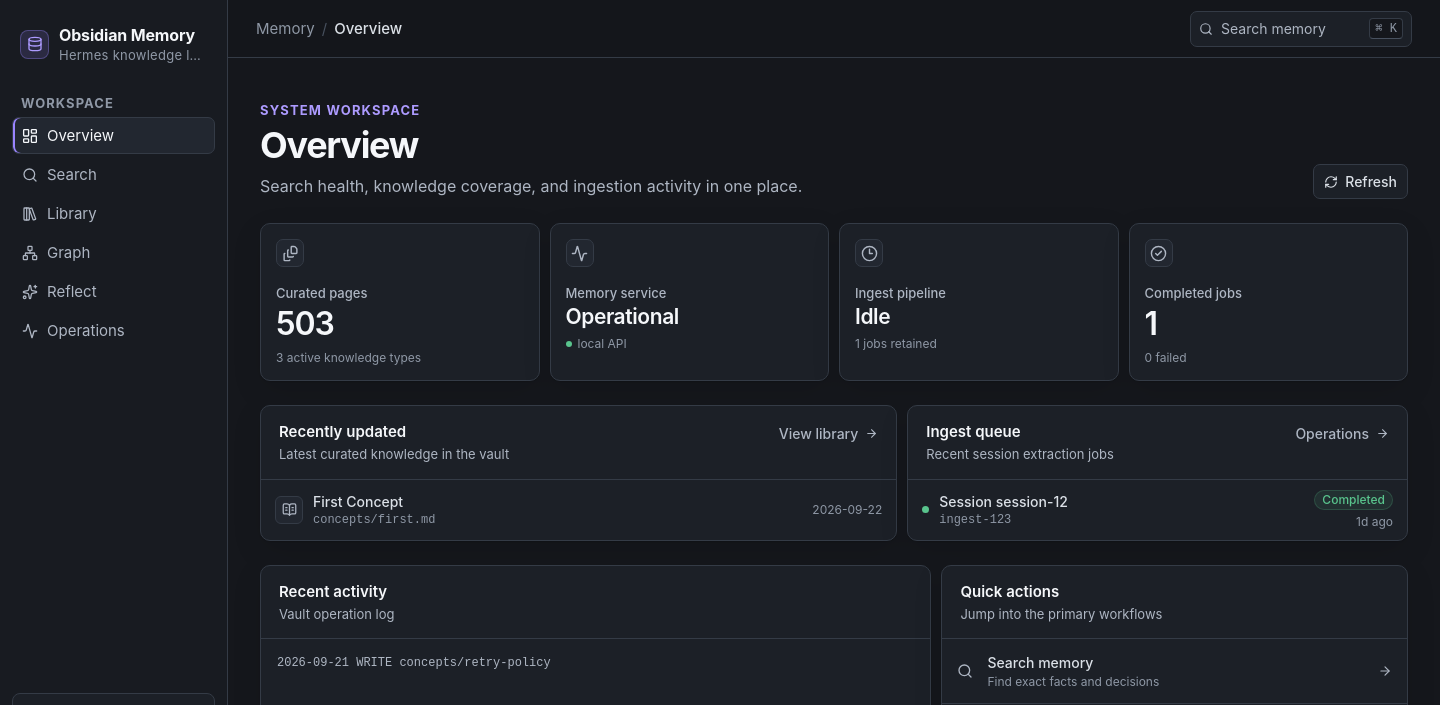
Test: Memory workspace shell › loads answer and preference filters from the server instead of the initial page slice
Click the button "Library" at coordinates (114, 214), box top-left (12, 195), bottom-right (215, 232)
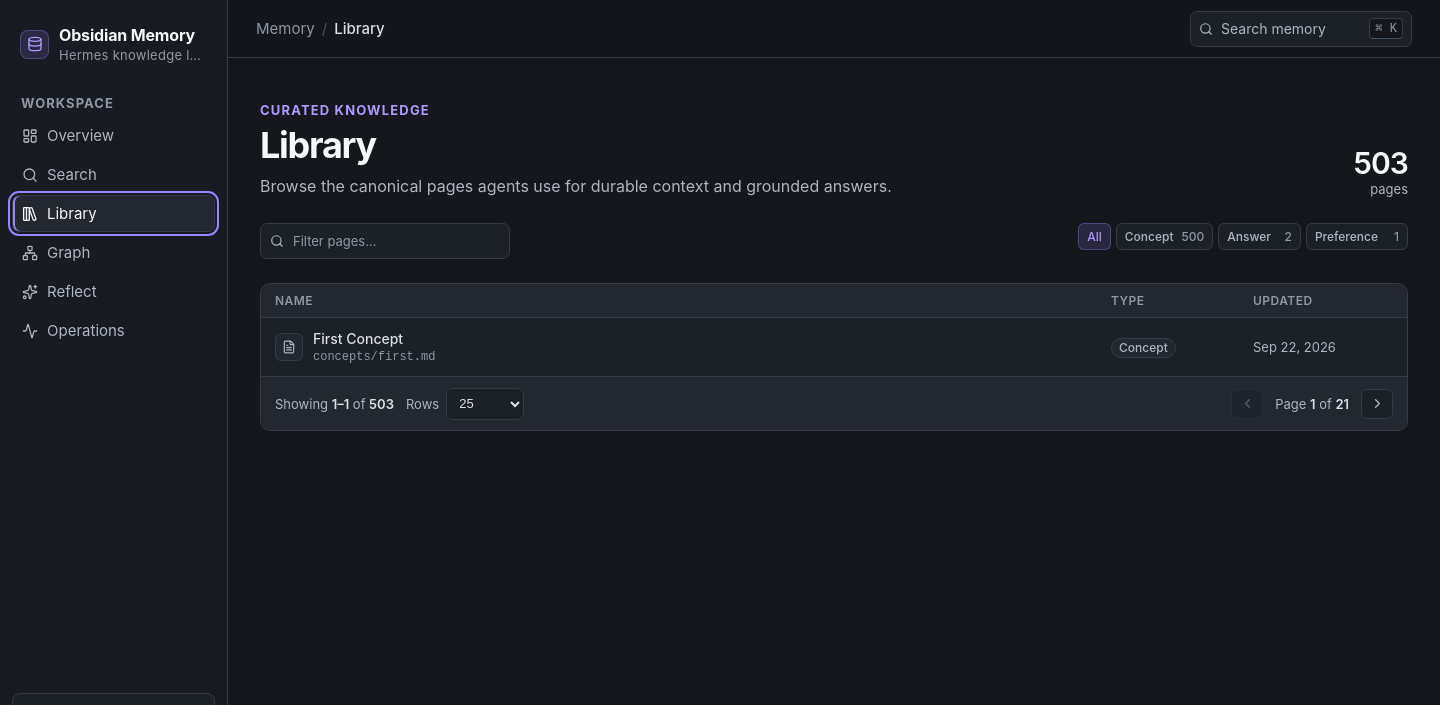
Click the button "answer 2" at coordinates (1260, 237), box top-left (1218, 223), bottom-right (1301, 250)
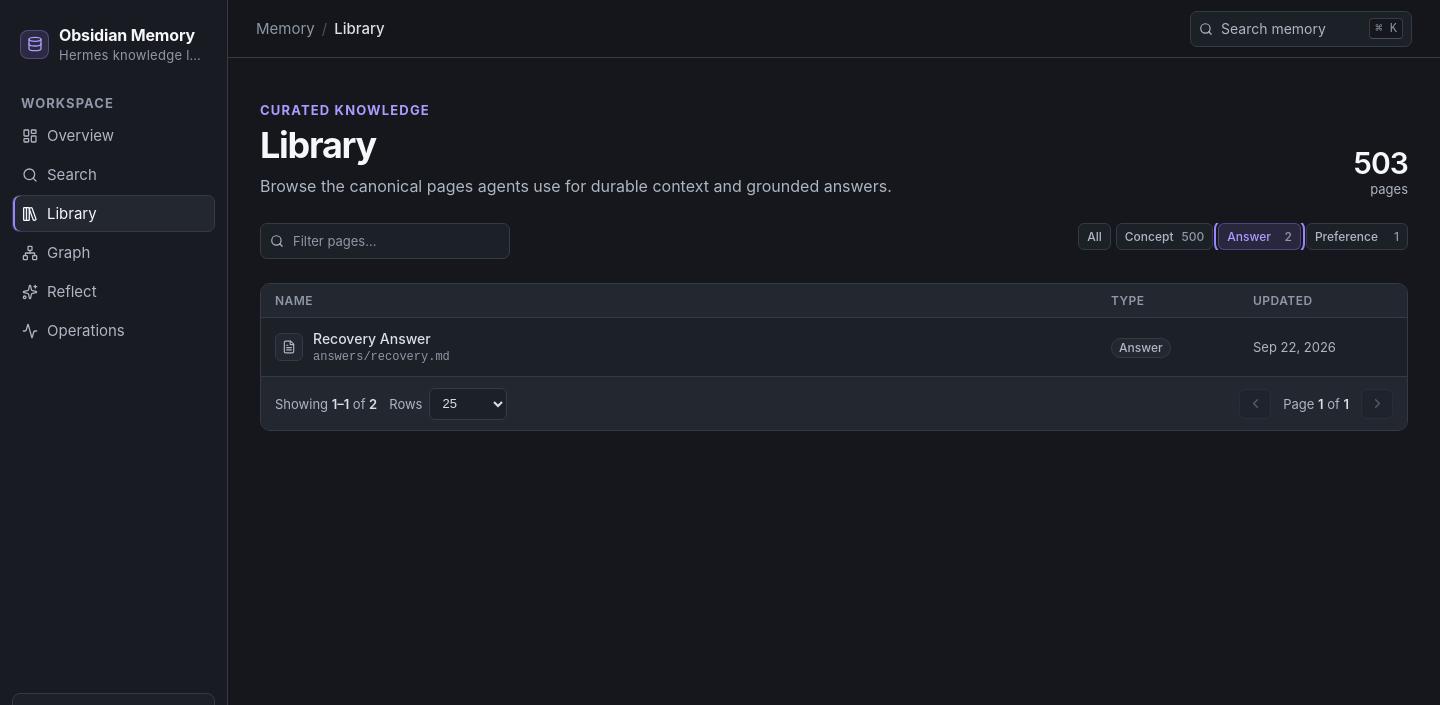
Now the text "Recovery Answer" is shown, box top-left (313, 330), bottom-right (450, 347)
Click the button "preference 1" at coordinates (1357, 237), box top-left (1306, 223), bottom-right (1408, 250)
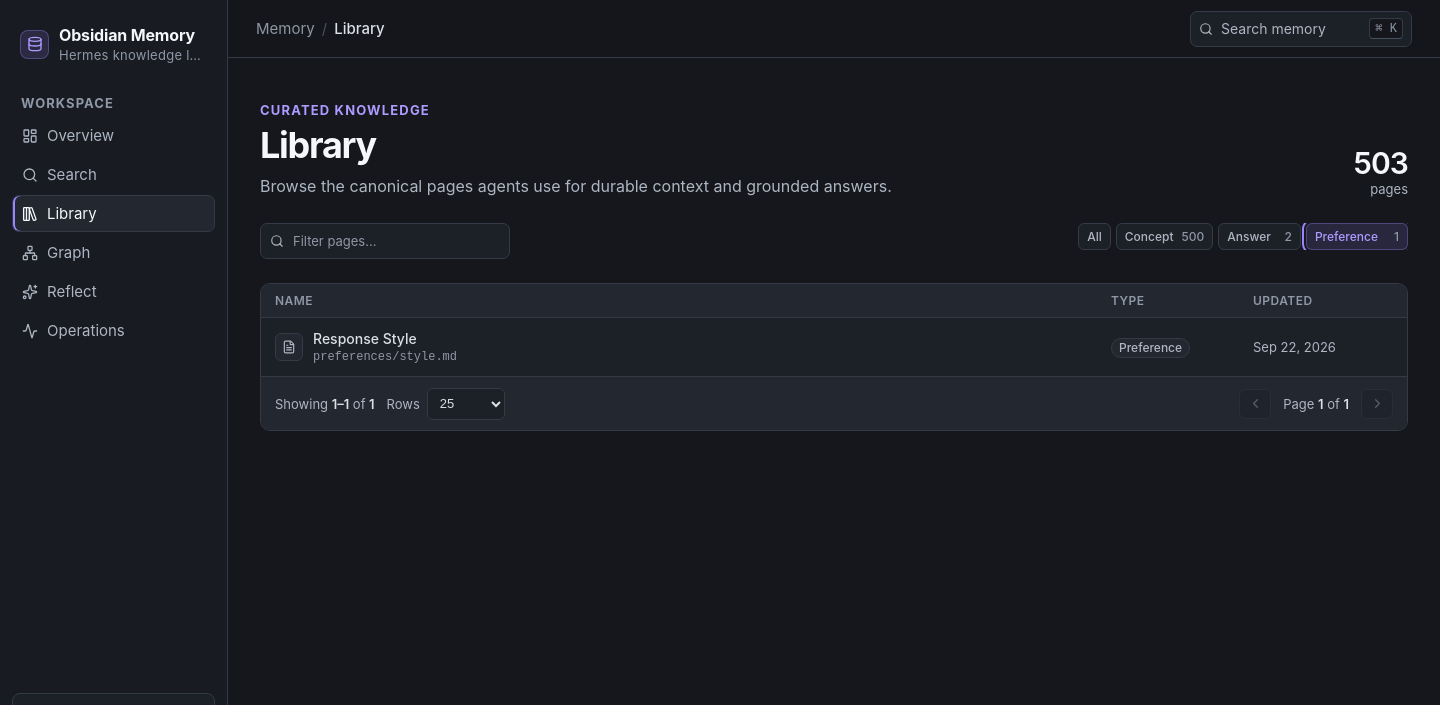
Now the text "Response Style" is shown, box top-left (313, 330), bottom-right (417, 347)
